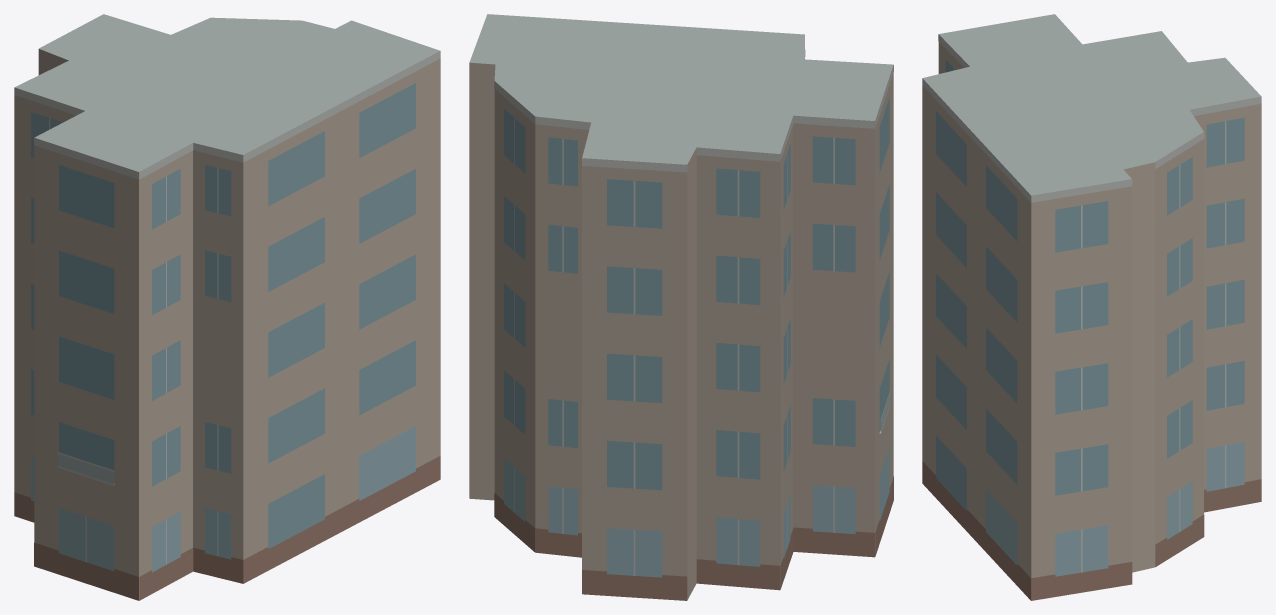
Rendered from survey-upis-33024792.glb.
3 views of the same model, side by side, from view 1: azimuth 30°, elevation 25°; view 2: azimuth 150°, elevation 25°; view 3: azimuth 270°, elevation 25° (orthographic). The views are drawn at different scales.
Parts seen in each view (by area): view 1: survey-upis-33024792.tmp; view 2: survey-upis-33024792.tmp; view 3: survey-upis-33024792.tmp.
Boxes of the visible parts, bbox=[...] form: survey-upis-33024792.tmp: bbox=[14, 14, 440, 600]; survey-upis-33024792.tmp: bbox=[469, 14, 893, 600]; survey-upis-33024792.tmp: bbox=[922, 14, 1261, 600].
Bounding box in the file's own units: 13.28 × 13.8 × 10.48.
